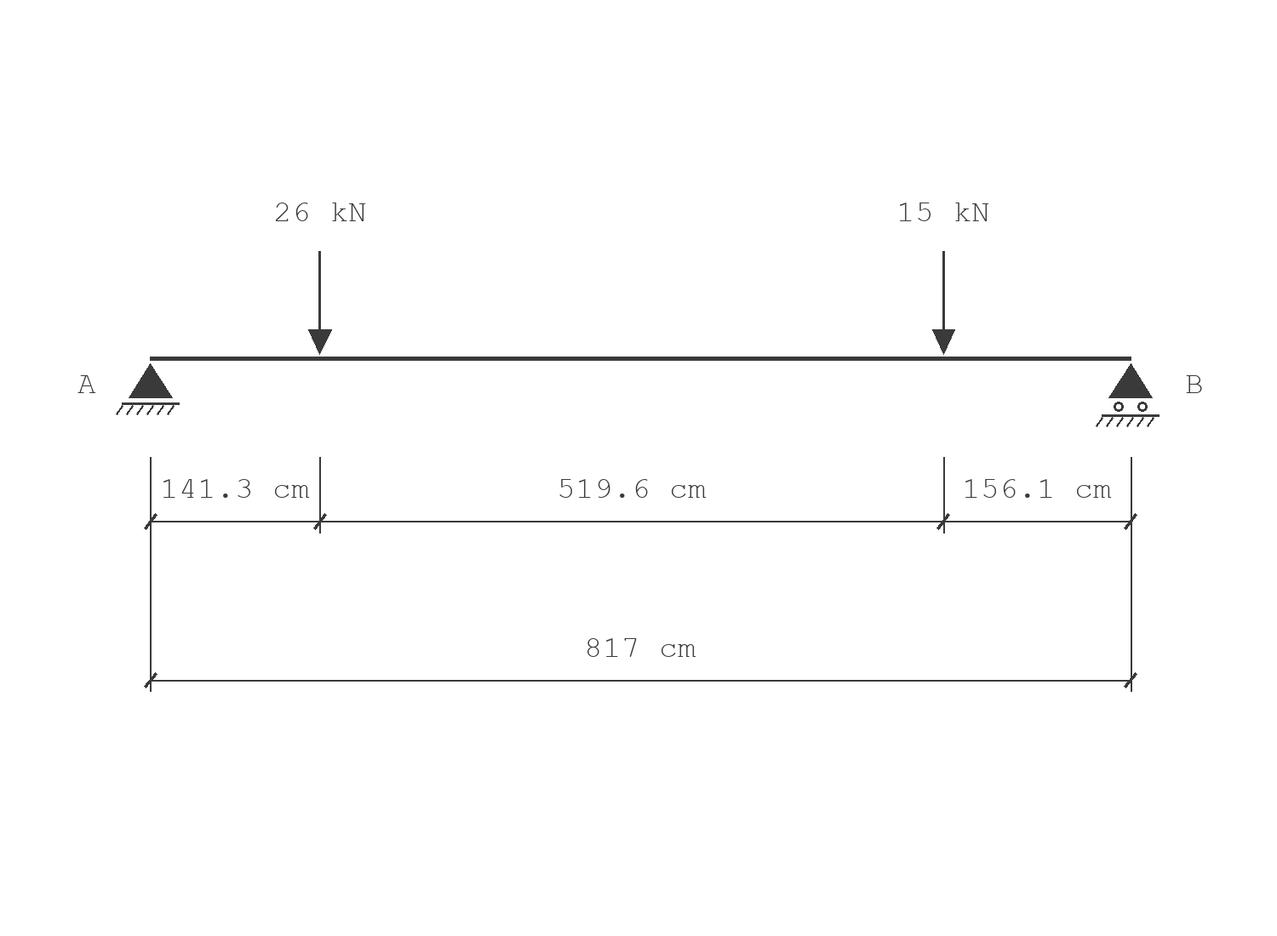pin_support: (116, 363, 180, 415)
point_load: (308, 251, 332, 355), (932, 251, 955, 355)
roller_support: (1096, 363, 1160, 427)
